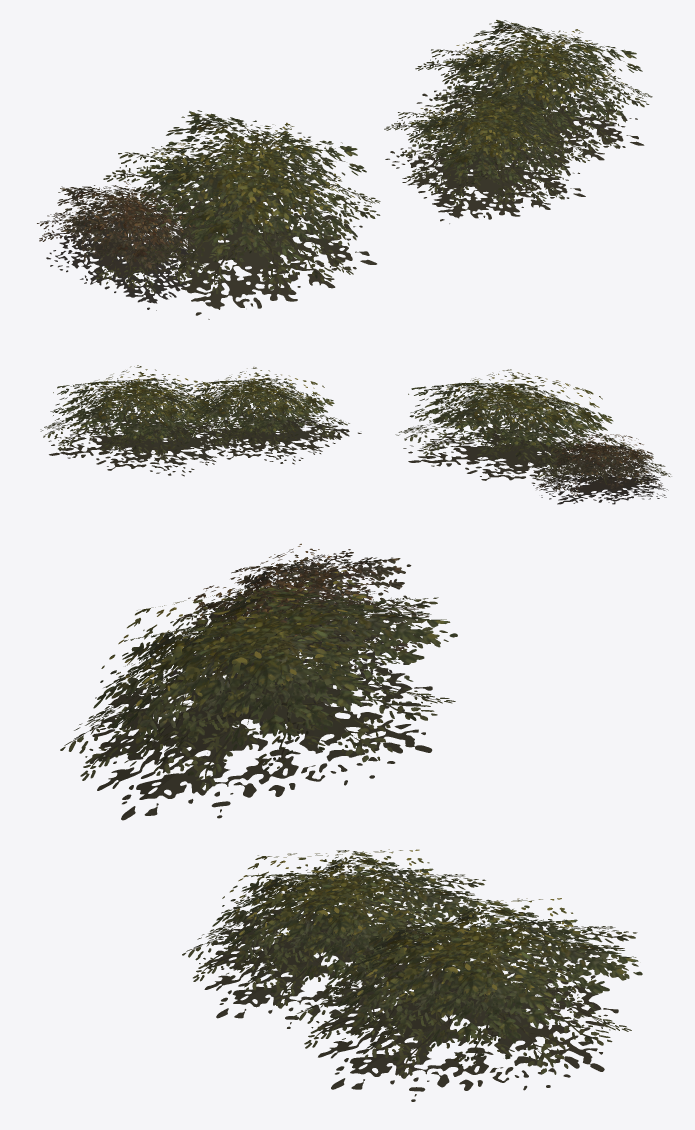
The model's file is plants_bushes07.fbx.
3 views of the same model, one above another, from view 1: azimuth 30°, elevation 25°; view 2: azimuth 150°, elevation 25°; view 3: azimuth 270°, elevation 25° (orthographic). The views are drawn at different scales.
Parts seen in each view (by area): view 1: obj1.046; view 2: obj1.046; view 3: obj1.046.
Boxes of the visible parts, box(x1,y1,x2,y2) form: obj1.046: box(37, 20, 652, 319); obj1.046: box(40, 365, 671, 504); obj1.046: box(60, 543, 642, 1101).
Size of the model in its own units: 13.27 by 2.25 by 7.36.
